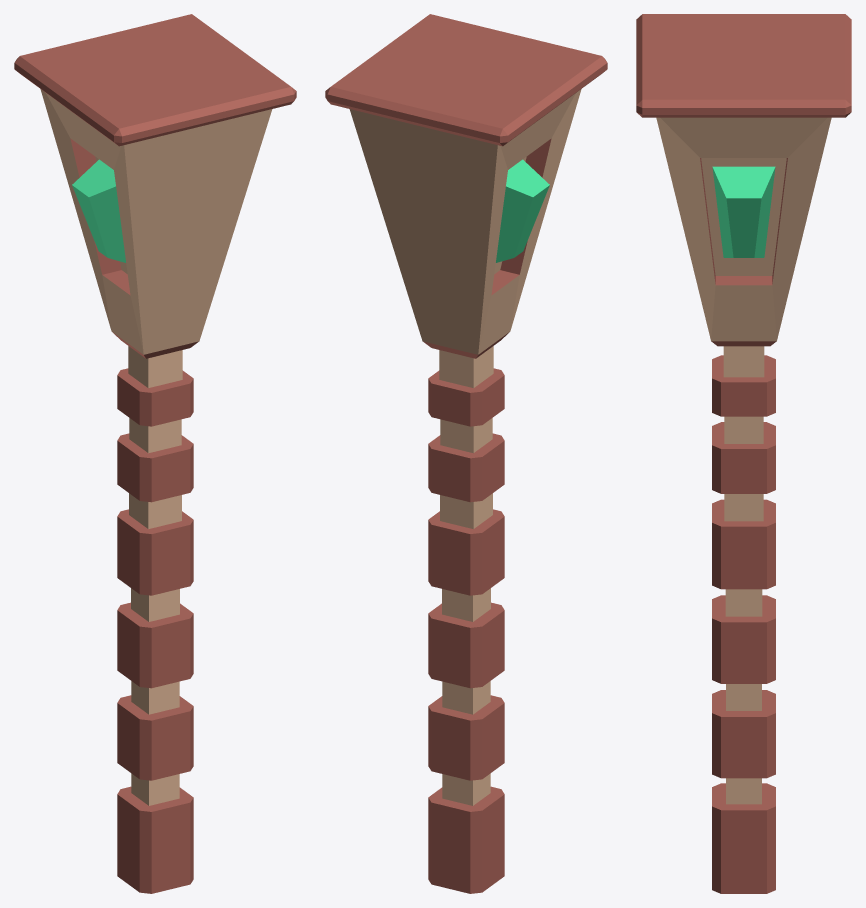
The model's file is Room3CenterPiece.fbx.
3 views of the same model, side by side, from view 1: azimuth 30°, elevation 25°; view 2: azimuth 150°, elevation 25°; view 3: azimuth 270°, elevation 25° (orthographic). The views are drawn at different scales.
Parts seen in each view (by area): view 1: Cube; view 2: Cube; view 3: Cube.
Boxes of the visible parts, x1,y1,x2,y2 form: Cube: [14, 14, 296, 893]; Cube: [325, 14, 607, 893]; Cube: [636, 14, 851, 893].
Size of the model in its own units: 2367 by 9987 by 2367.
